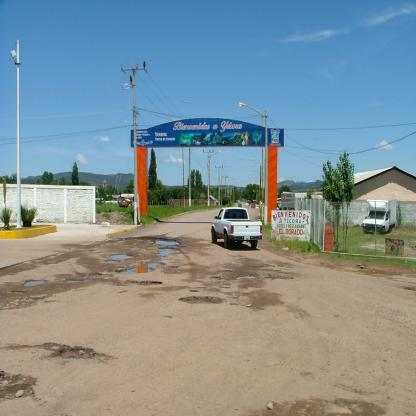Car: (278, 202, 283, 210), (239, 204, 243, 208)
